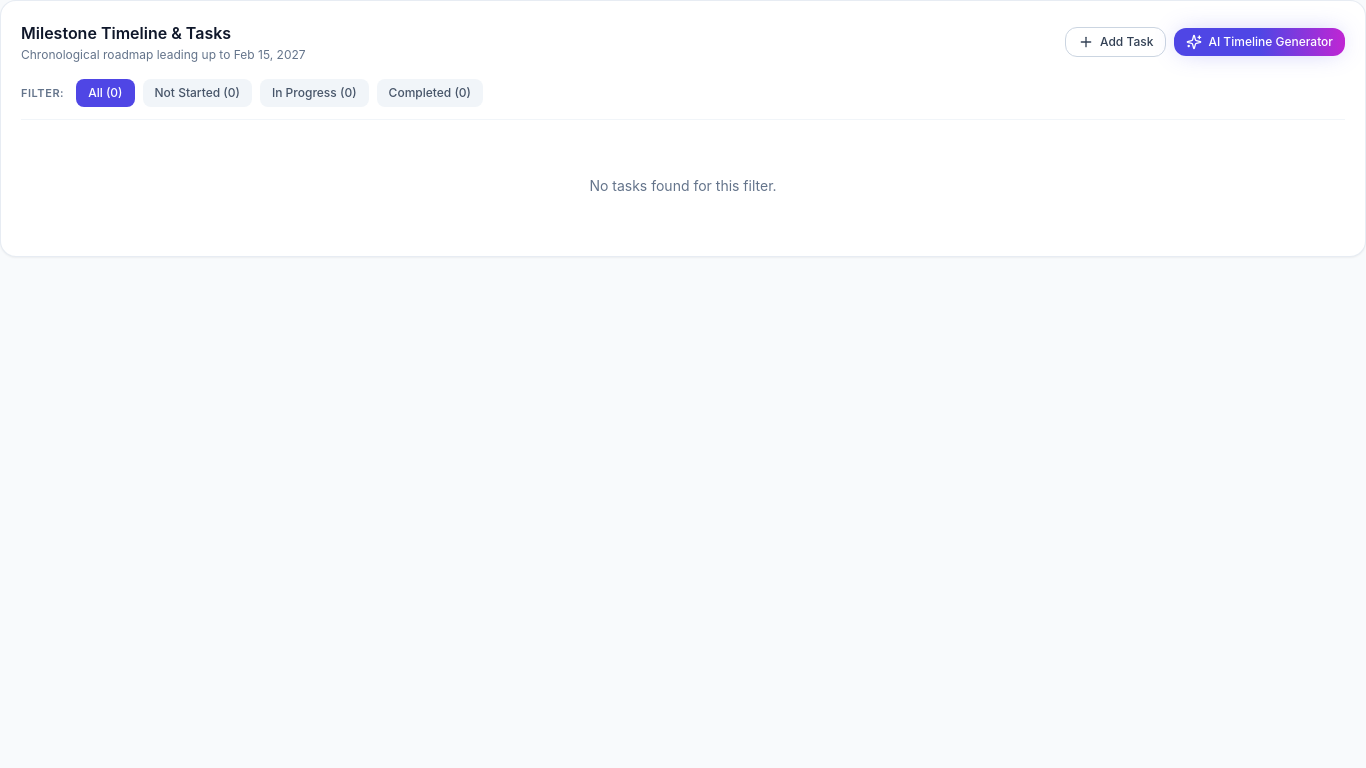
Test: TimelineView component › handles completely empty timeline state and buttons
Expected: the text "No tasks found for this filter." is shown, [589,177,777,194]
Click the button "AI Timeline Generator": (1260,42) [1174,28,1345,56]
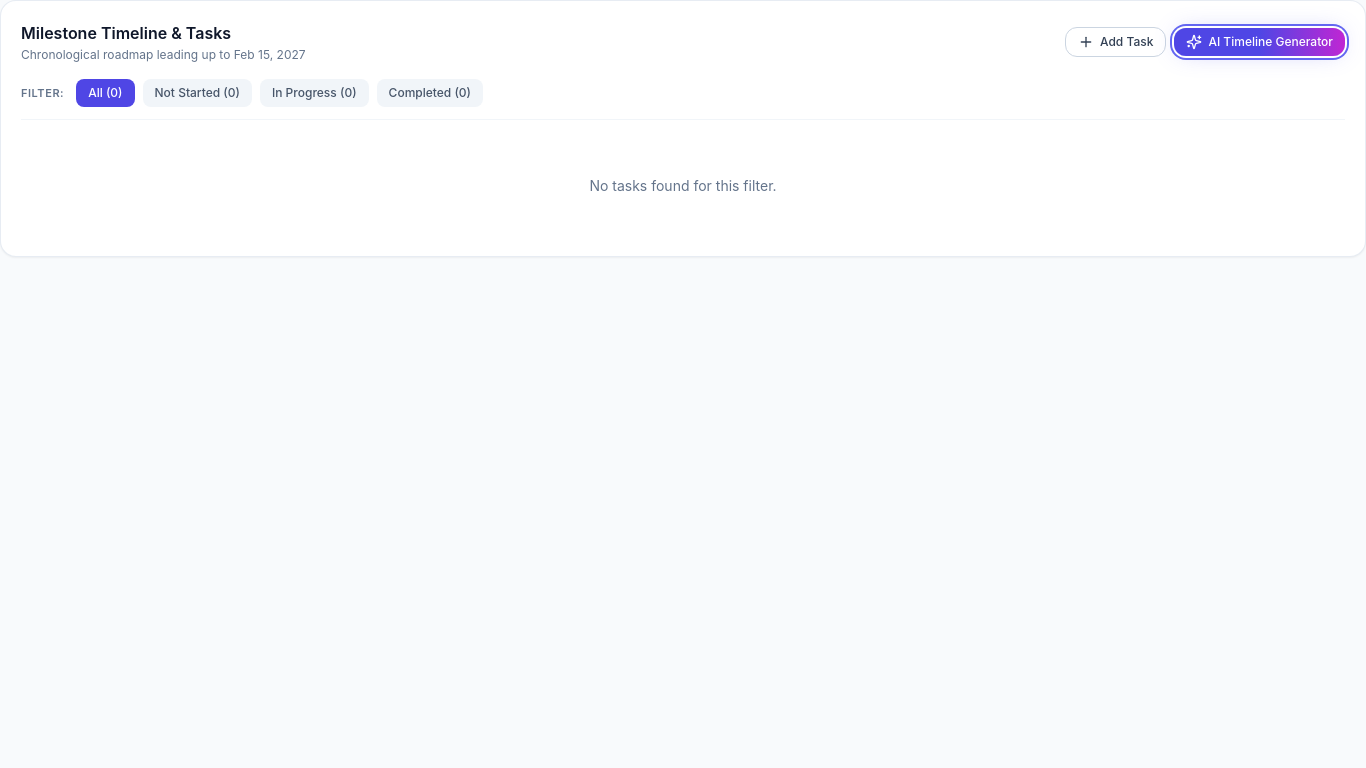
Click the button "Add Task": (1116,42) [1065,27,1166,57]
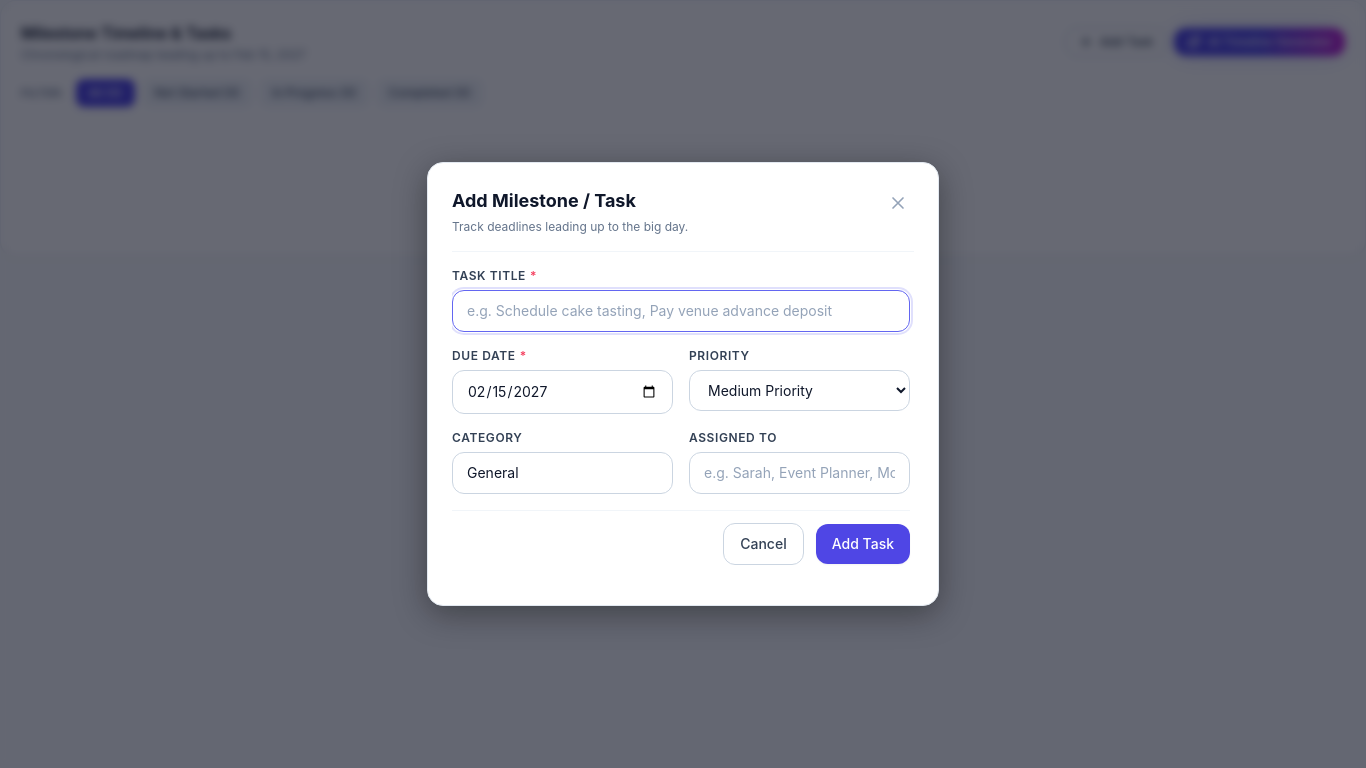
Expected: the heading "Add Milestone / Task" is shown, [452,190,636,211]
